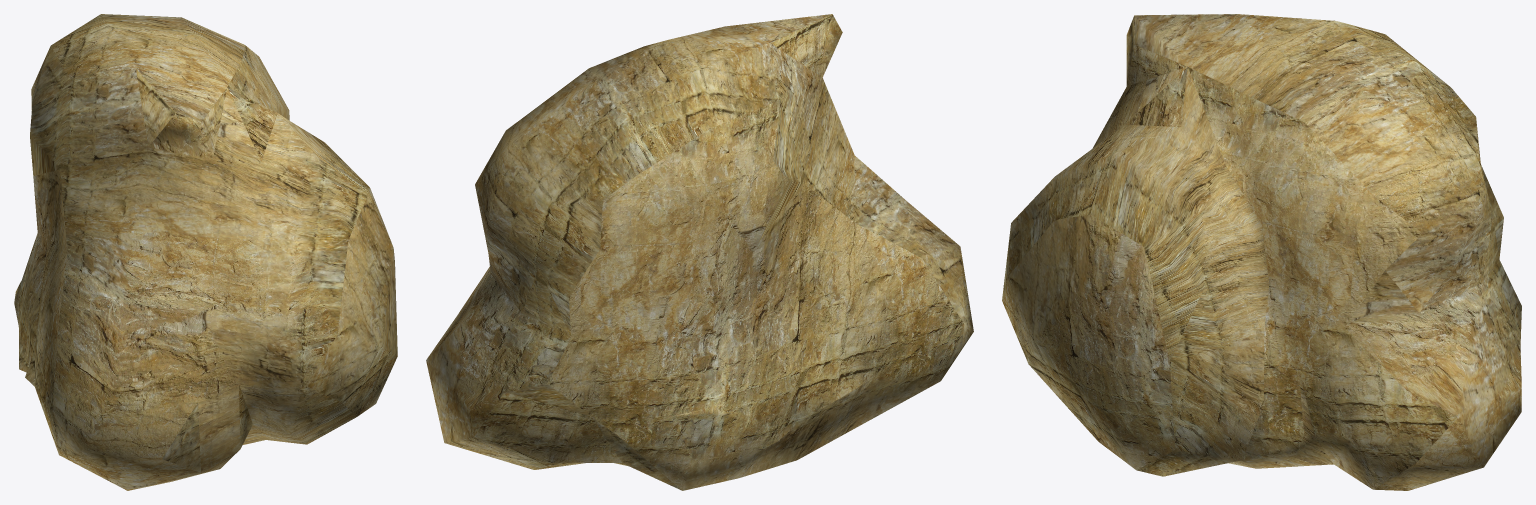
File: Boulder12.dae
3 views of the same model, side by side, from view 1: azimuth 30°, elevation 25°; view 2: azimuth 150°, elevation 25°; view 3: azimuth 270°, elevation 25° (orthographic). The views are drawn at different scales.
Visible parts, largest first — view 1: rock0; view 2: rock0; view 3: rock0.
Boxes of the visible parts, left/top/right/bottom form: rock0: left=14, top=14, right=397, bottom=490; rock0: left=426, top=14, right=973, bottom=490; rock0: left=1002, top=14, right=1521, bottom=490.
Size of the model in its own units: 1.35 by 1.63 by 1.39.
